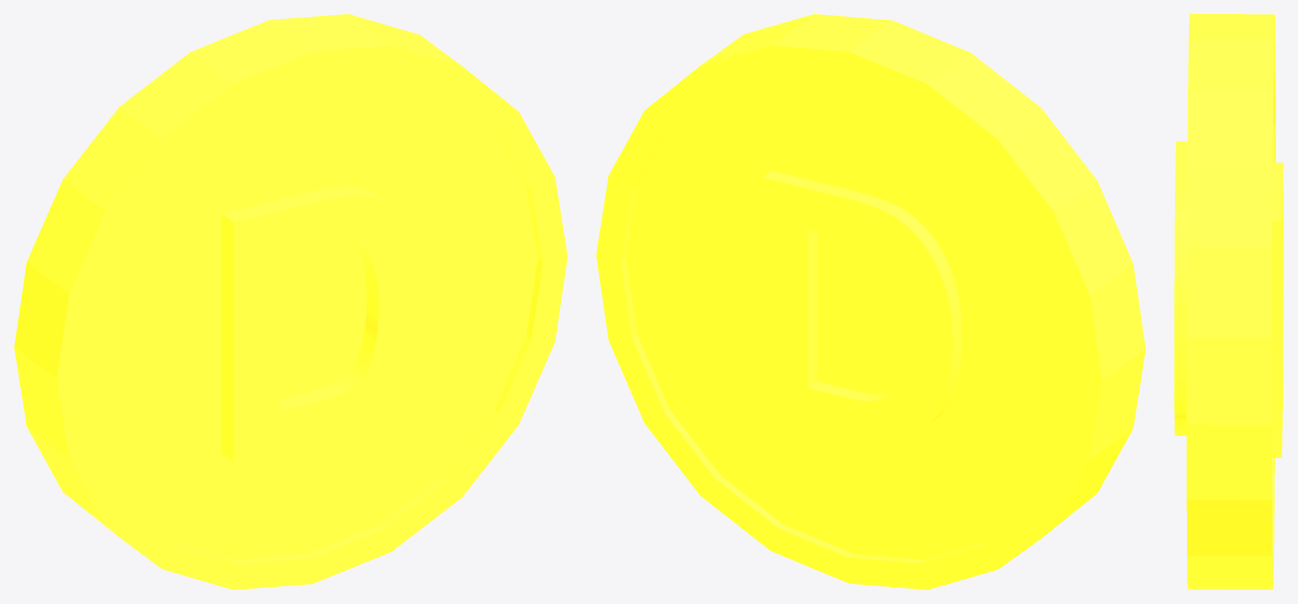
File: Coin.fbx
3 renders of one model, left to right at view 1: azimuth 30°, elevation 25°; view 2: azimuth 150°, elevation 25°; view 3: azimuth 270°, elevation 25°, orthographic.
Visible parts, largest first — view 1: Cylinder; view 2: Cylinder; view 3: Cylinder.
Part boxes in pixels (x1,y1,x2,y2): Cylinder: (14,14,567,589); Cylinder: (596,14,1145,589); Cylinder: (1174,14,1283,589).
Bounding box in the file's own units: 20.02 × 20 × 3.76.
